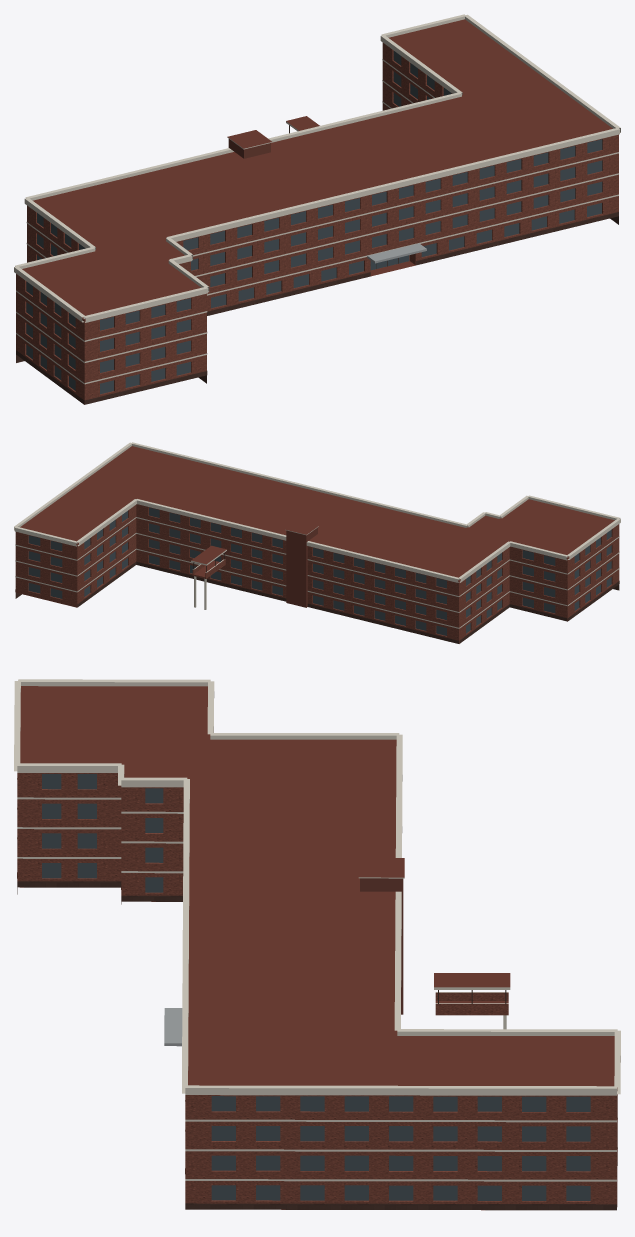
The picture shows the model from 3 angles, top to bottom: view 1: azimuth 30°, elevation 25°; view 2: azimuth 150°, elevation 25°; view 3: azimuth 270°, elevation 25°; orthographic projection. The views are drawn at different scales.
Parts seen in each view (by area): view 1: humanities__roof, humanities__wall, humanities__glass, humanities__trim, humanities__base, humanities__canopy; view 2: humanities__roof, humanities__wall, humanities__trim, humanities__glass, humanities__base, humanities__wall2; view 3: humanities__roof, humanities__wall, humanities__trim, humanities__glass, humanities__base, humanities__wall2.
Part boxes in pixels (<box>): humanities__roof: <box>22,19,612,319</box>; humanities__wall: <box>16,42,618,404</box>; humanities__glass: <box>26,51,602,394</box>; humanities__trim: <box>14,14,620,384</box>; humanities__base: <box>16,212,618,404</box>; humanities__canopy: <box>367,243,426,263</box>; humanities__roof: <box>20,446,614,580</box>; humanities__wall: <box>15,504,619,643</box>; humanities__trim: <box>14,442,620,628</box>; humanities__glass: <box>28,507,611,635</box>; humanities__base: <box>15,561,619,643</box>; humanities__wall2: <box>286,527,317,607</box>; humanities__roof: <box>20,686,617,1210</box>; humanities__wall: <box>17,773,617,1206</box>; humanities__trim: <box>14,679,620,1181</box>; humanities__glass: <box>42,774,590,1200</box>; humanities__base: <box>17,872,617,1210</box>; humanities__wall2: <box>360,878,403,1014</box>.
Size of the model in its own units: 106 by 18.2 by 66.71.
Materials: 10 (2 with a texture image).
